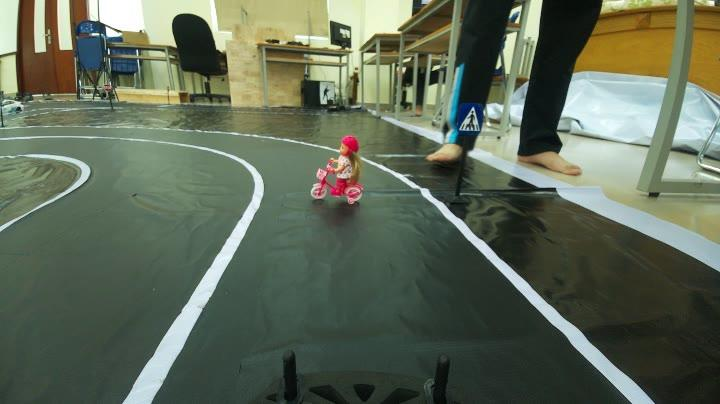crosswalk: (454, 98, 492, 140)
pedestrian: (314, 133, 376, 212)
